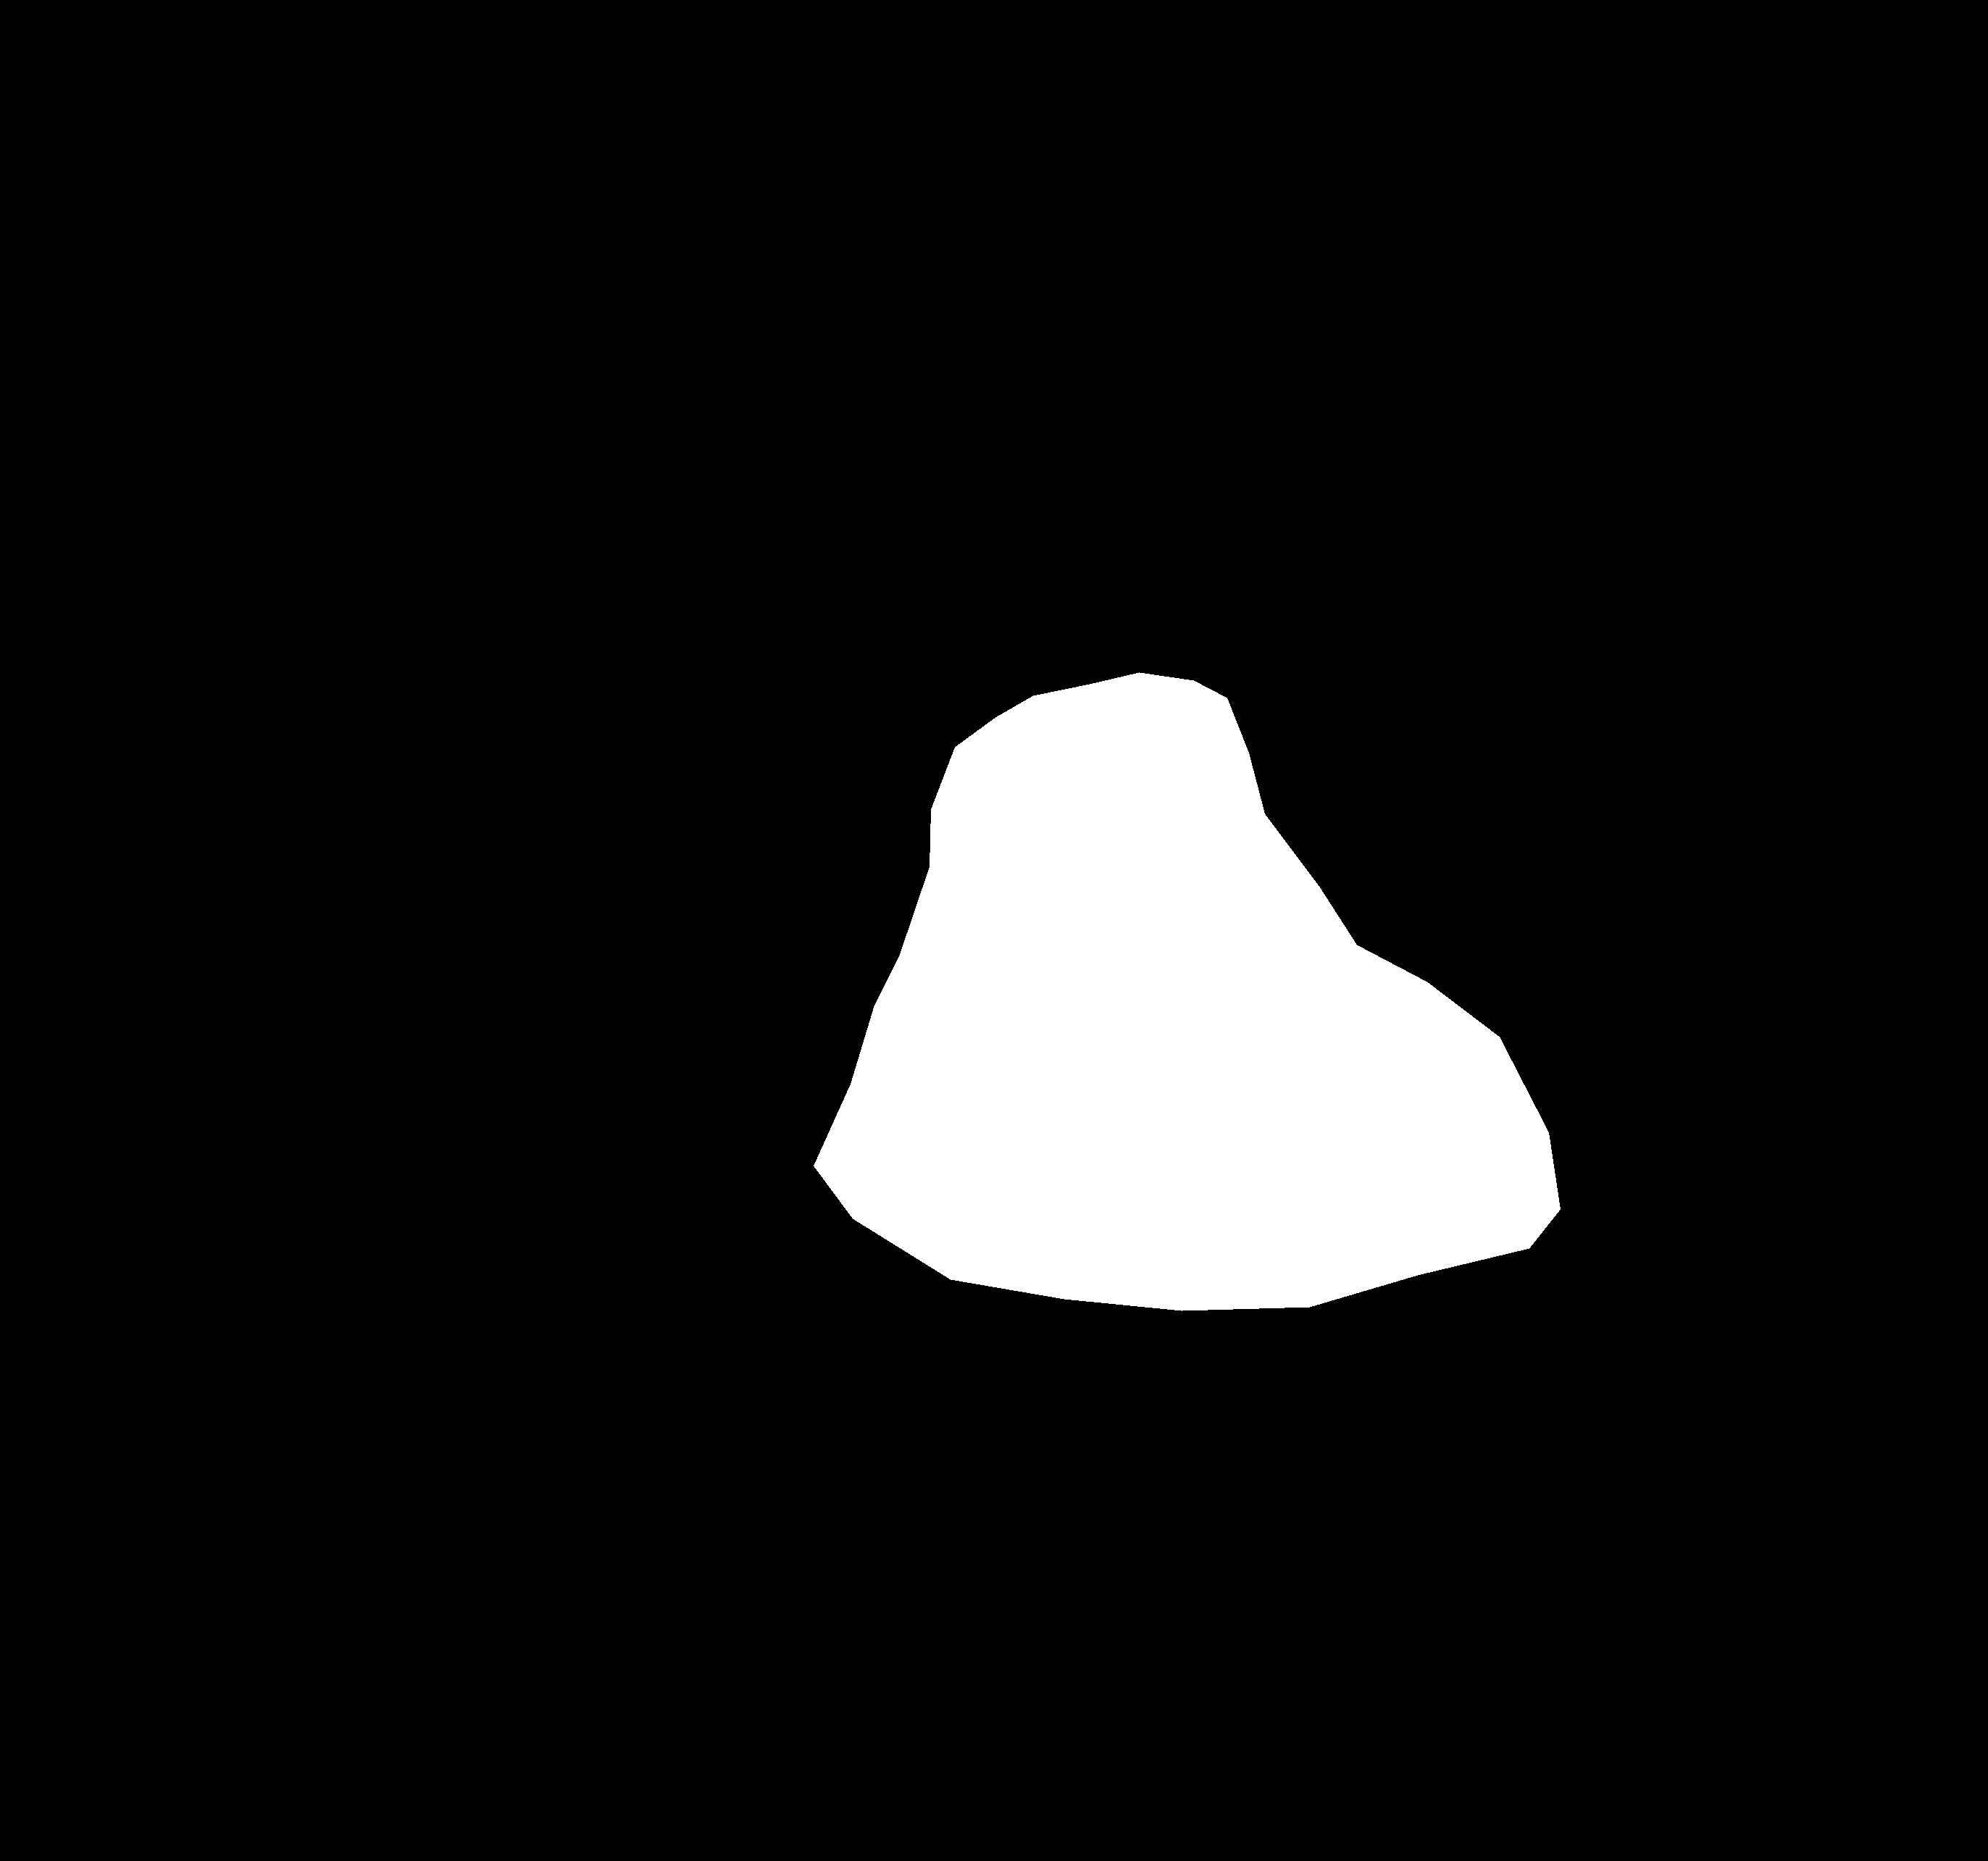heart: (813, 672, 1560, 1310)
left_lung: (224, 128, 1007, 1307)
right_lung: (1135, 178, 1820, 1391)
